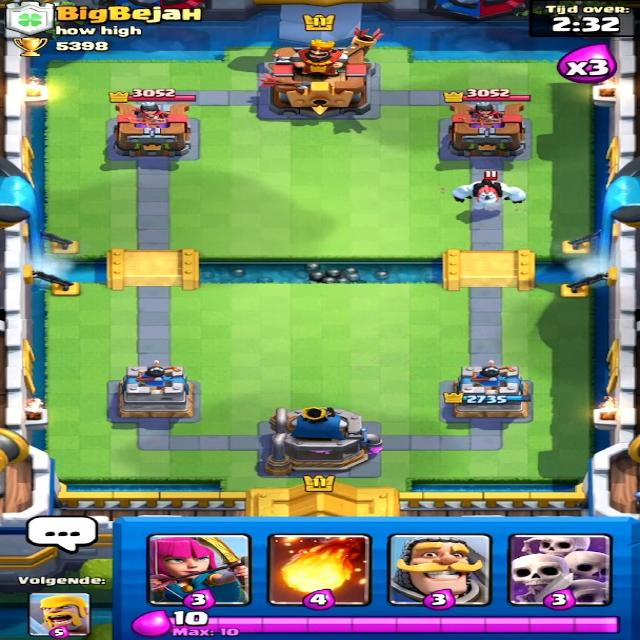Enemy_Ice_Golem_Troop: (447, 176, 527, 213)
Fireball_Card: (262, 530, 367, 608)
